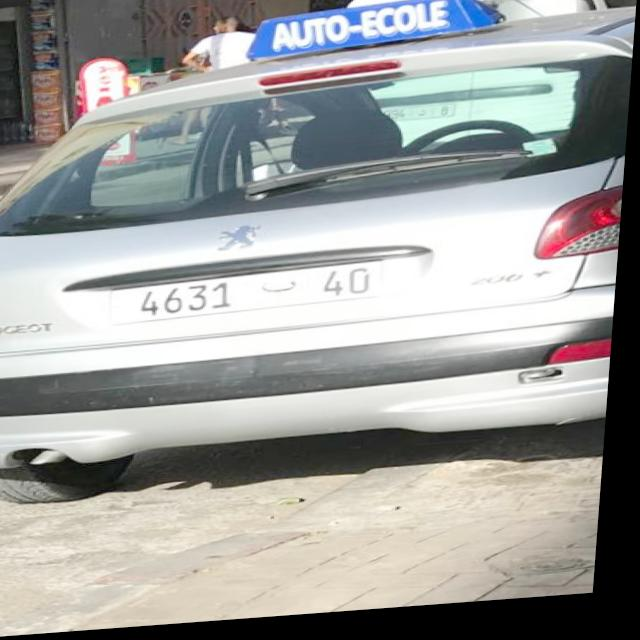License-Plate: (116, 270, 388, 325)
